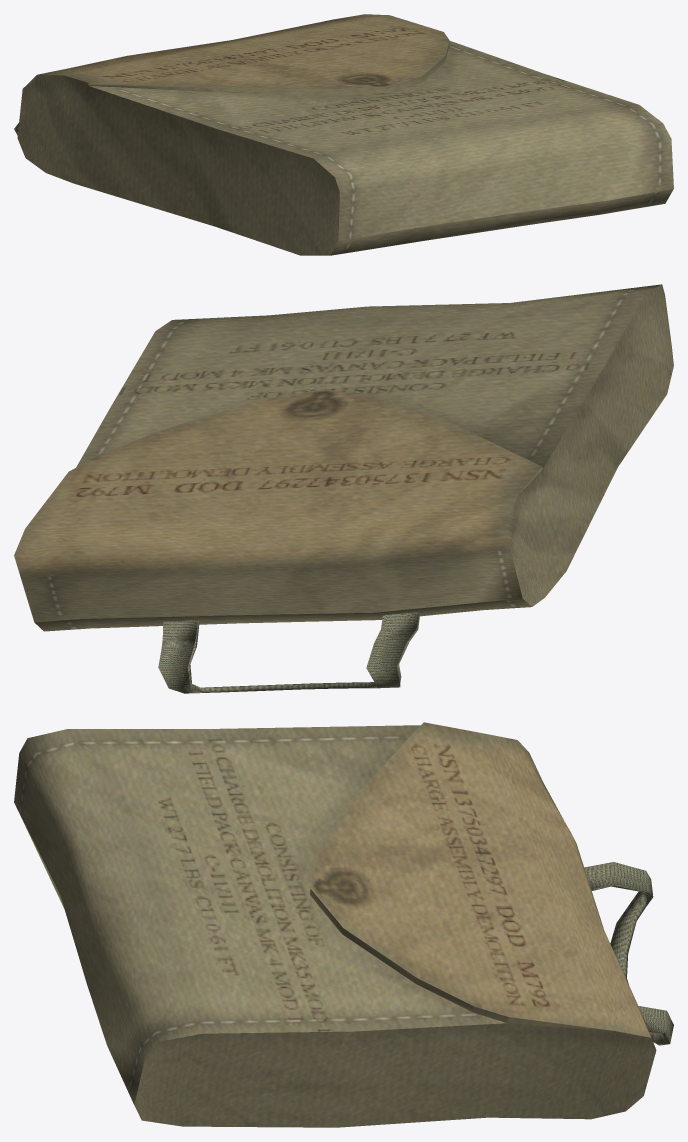
File: stch_1st.glb
The picture shows the model from 3 angles, top to bottom: view 1: azimuth 30°, elevation 25°; view 2: azimuth 150°, elevation 25°; view 3: azimuth 270°, elevation 25°; orthographic projection. The views are drawn at different scales.
Visible parts, largest first — view 1: _stch_1st; view 2: _stch_1st; view 3: _stch_1st.
Part boxes in pixels (bbox=[...]): _stch_1st: bbox=[14, 14, 673, 255]; _stch_1st: bbox=[14, 284, 673, 693]; _stch_1st: bbox=[14, 722, 673, 1127].
Bounding box in the file's own units: 0.2956 × 0.1216 × 0.3128.
Materials: 1 (1 with a texture image).
